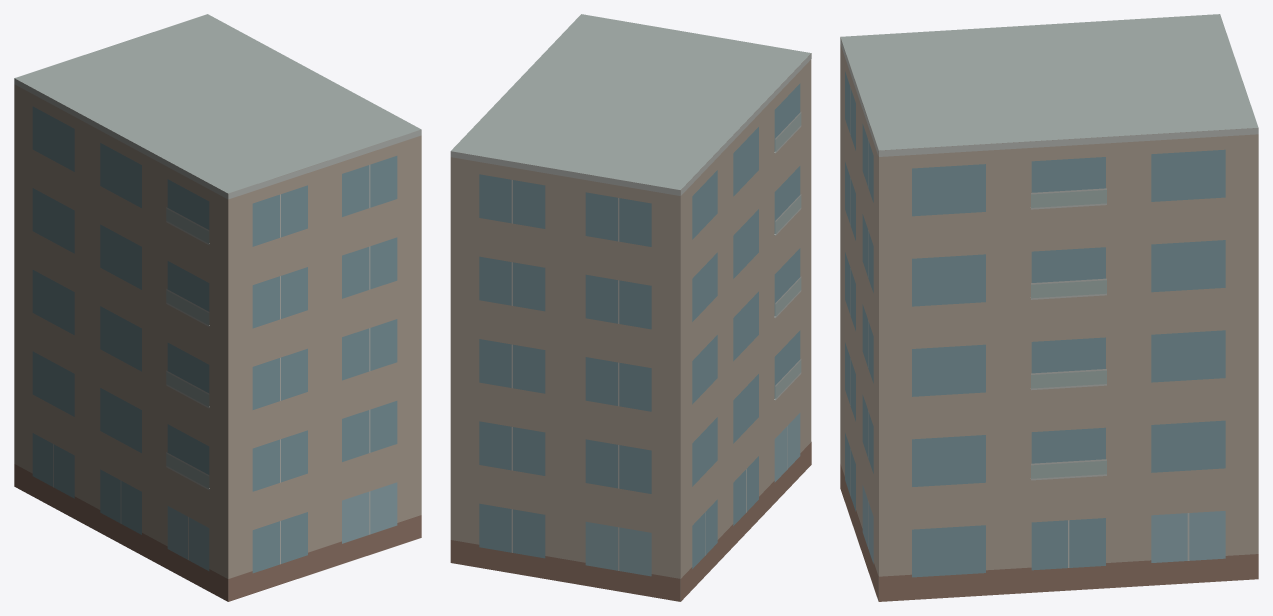
File: survey-upis-32942247.glb
3 renders of one model, left to right at view 1: azimuth 30°, elevation 25°; view 2: azimuth 150°, elevation 25°; view 3: azimuth 270°, elevation 25°, orthographic. The views are drawn at different scales.
Parts seen in each view (by area): view 1: survey-upis-32942247.tmp; view 2: survey-upis-32942247.tmp; view 3: survey-upis-32942247.tmp.
Part boxes in pixels (left/top/right/bottom): survey-upis-32942247.tmp: left=14, top=14, right=421, bottom=601; survey-upis-32942247.tmp: left=450, top=14, right=811, bottom=601; survey-upis-32942247.tmp: left=840, top=14, right=1258, bottom=601.
Size of the model in its own units: 10.9 by 16.8 by 14.12.
